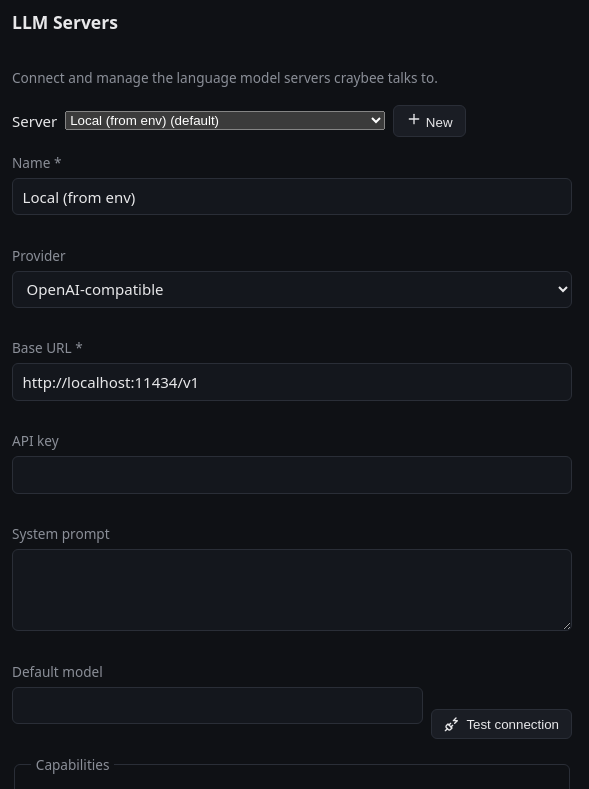
Test: LlmServersSection › disables Test connection while the form is dirty
Type "some-model" into the field labelled "Default model".
click(218, 706); type("some-model")  # box [12,687,423,724]
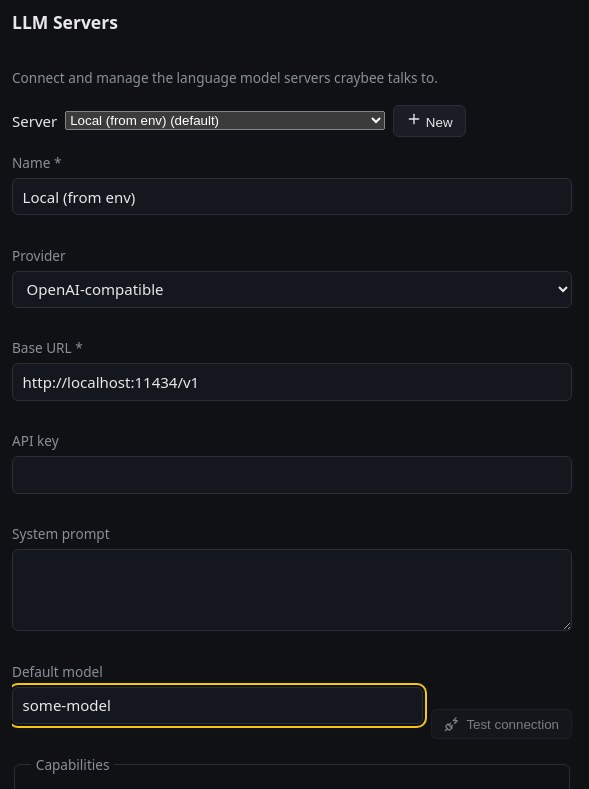
Result: the button "Test connection" is disabled at [431,710,572,739]
